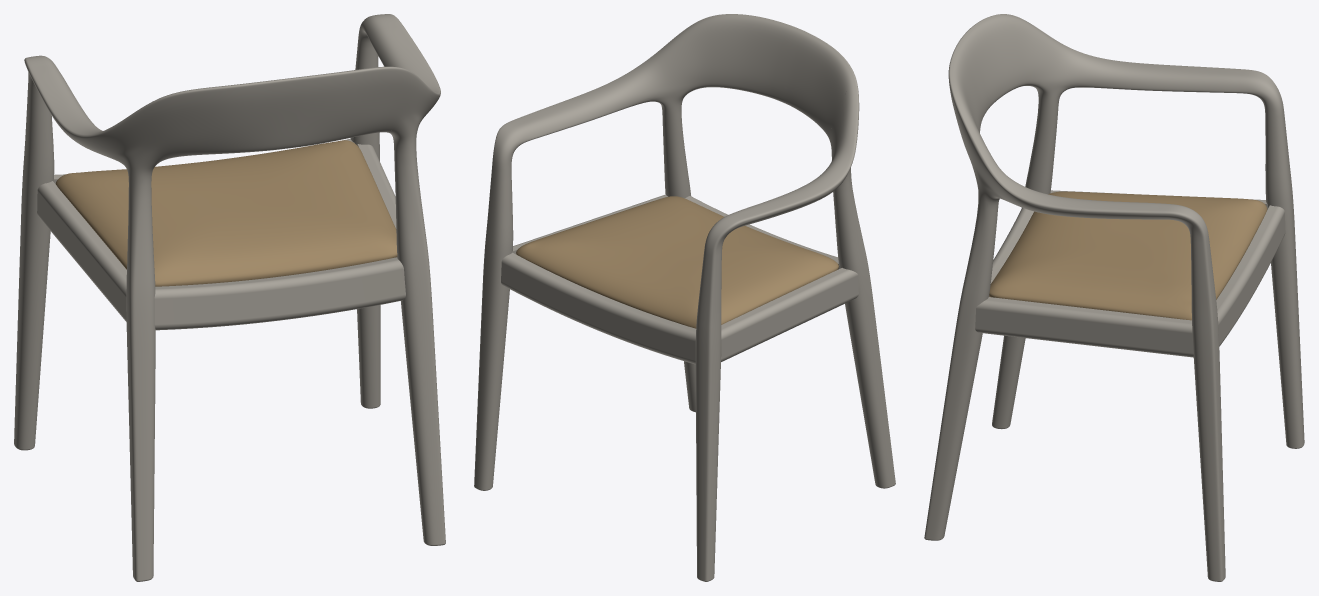
File: noctachair.glb
The picture shows the model from 3 angles, left to right: view 1: azimuth 30°, elevation 25°; view 2: azimuth 150°, elevation 25°; view 3: azimuth 270°, elevation 25°; orthographic projection. The views are drawn at different scales.
Parts seen in each view (by area): view 1: Défaut(E073122B-CE87-48FB-A091-C9CEA8954A02), Défaut(8B114620-3046-4C9C-ACDE-5ECD40CD4C1C), Défaut(477C71BB-9DA6-4704-B283-131E9F98A52C), Défaut(F9AA50C3-939D-43F9-B798-BAA373240C19), Défaut(659FC8FC-DBB0-49E9-AC70-1E8E23304C46), Défaut(5AACF382-371D-405E-8F28-016EED07736B), Défaut(05EF5703-1EF0-431D-A8A9-ABDEF9872A3E), Défaut(D45A28D3-E28A-447C-AAEF-6814F65BBE02), Défaut(C0635B57-E47A-4526-B0A4-7D6327328A1C), Défaut(3A9C8FE8-7C61-4CA3-8392-6F3AA7BD3DE3), Défaut(82B2530E-E217-4B46-A4E4-2B87704EA393); view 2: Défaut(E073122B-CE87-48FB-A091-C9CEA8954A02), Défaut(8B114620-3046-4C9C-ACDE-5ECD40CD4C1C), Défaut(477C71BB-9DA6-4704-B283-131E9F98A52C), Défaut(C0635B57-E47A-4526-B0A4-7D6327328A1C), Défaut(5AACF382-371D-405E-8F28-016EED07736B), Défaut(3D76EAA4-D734-4F13-A2F3-16AD7E32FCEB), Défaut(3A9C8FE8-7C61-4CA3-8392-6F3AA7BD3DE3), Défaut(F9AA50C3-939D-43F9-B798-BAA373240C19), Défaut(05EF5703-1EF0-431D-A8A9-ABDEF9872A3E), Défaut(D45A28D3-E28A-447C-AAEF-6814F65BBE02); view 3: Défaut(E073122B-CE87-48FB-A091-C9CEA8954A02), Défaut(F9AA50C3-939D-43F9-B798-BAA373240C19), Défaut(82B2530E-E217-4B46-A4E4-2B87704EA393), Défaut(C0635B57-E47A-4526-B0A4-7D6327328A1C), Défaut(5AACF382-371D-405E-8F28-016EED07736B), Défaut(8B114620-3046-4C9C-ACDE-5ECD40CD4C1C), Défaut(477C71BB-9DA6-4704-B283-131E9F98A52C), Défaut(D45A28D3-E28A-447C-AAEF-6814F65BBE02), Défaut(3A9C8FE8-7C61-4CA3-8392-6F3AA7BD3DE3), Défaut(3D76EAA4-D734-4F13-A2F3-16AD7E32FCEB), Défaut(659FC8FC-DBB0-49E9-AC70-1E8E23304C46).
Boxes of the visible parts, x1,y1,x2,y2 form: Défaut(E073122B-CE87-48FB-A091-C9CEA8954A02): (55, 140, 397, 286); Défaut(8B114620-3046-4C9C-ACDE-5ECD40CD4C1C): (157, 66, 407, 159); Défaut(477C71BB-9DA6-4704-B283-131E9F98A52C): (111, 99, 165, 581); Défaut(F9AA50C3-939D-43F9-B798-BAA373240C19): (389, 69, 445, 545); Défaut(659FC8FC-DBB0-49E9-AC70-1E8E23304C46): (154, 257, 405, 330); Défaut(5AACF382-371D-405E-8F28-016EED07736B): (14, 76, 54, 450); Défaut(05EF5703-1EF0-431D-A8A9-ABDEF9872A3E): (37, 181, 126, 321); Défaut(D45A28D3-E28A-447C-AAEF-6814F65BBE02): (24, 55, 120, 162); Défaut(C0635B57-E47A-4526-B0A4-7D6327328A1C): (350, 38, 380, 408); Défaut(3A9C8FE8-7C61-4CA3-8392-6F3AA7BD3DE3): (358, 14, 440, 120); Défaut(82B2530E-E217-4B46-A4E4-2B87704EA393): (357, 144, 396, 228); Défaut(E073122B-CE87-48FB-A091-C9CEA8954A02): (516, 196, 838, 328); Défaut(8B114620-3046-4C9C-ACDE-5ECD40CD4C1C): (695, 14, 857, 141); Défaut(477C71BB-9DA6-4704-B283-131E9F98A52C): (830, 86, 895, 488); Défaut(C0635B57-E47A-4526-B0A4-7D6327328A1C): (474, 161, 513, 490); Défaut(5AACF382-371D-405E-8F28-016EED07736B): (695, 247, 722, 581); Défaut(3D76EAA4-D734-4F13-A2F3-16AD7E32FCEB): (501, 252, 696, 364); Défaut(3A9C8FE8-7C61-4CA3-8392-6F3AA7BD3DE3): (492, 57, 656, 163); Défaut(F9AA50C3-939D-43F9-B798-BAA373240C19): (651, 21, 697, 412); Défaut(05EF5703-1EF0-431D-A8A9-ABDEF9872A3E): (721, 268, 858, 361); Défaut(D45A28D3-E28A-447C-AAEF-6814F65BBE02): (705, 139, 856, 250); Défaut(E073122B-CE87-48FB-A091-C9CEA8954A02): (989, 191, 1267, 320); Défaut(F9AA50C3-939D-43F9-B798-BAA373240C19): (924, 111, 999, 540); Défaut(82B2530E-E217-4B46-A4E4-2B87704EA393): (975, 297, 1193, 357); Défaut(C0635B57-E47A-4526-B0A4-7D6327328A1C): (1190, 233, 1225, 581); Défaut(5AACF382-371D-405E-8F28-016EED07736B): (1265, 106, 1304, 448); Défaut(8B114620-3046-4C9C-ACDE-5ECD40CD4C1C): (948, 14, 1033, 154); Défaut(477C71BB-9DA6-4704-B283-131E9F98A52C): (992, 17, 1068, 429); Défaut(D45A28D3-E28A-447C-AAEF-6814F65BBE02): (1060, 43, 1283, 110); Défaut(3A9C8FE8-7C61-4CA3-8392-6F3AA7BD3DE3): (986, 163, 1208, 237); Défaut(3D76EAA4-D734-4F13-A2F3-16AD7E32FCEB): (1216, 205, 1285, 346); Défaut(659FC8FC-DBB0-49E9-AC70-1E8E23304C46): (989, 207, 1033, 296).
Bounding box in the file's own units: 0.633 × 0.8003 × 0.6307.
